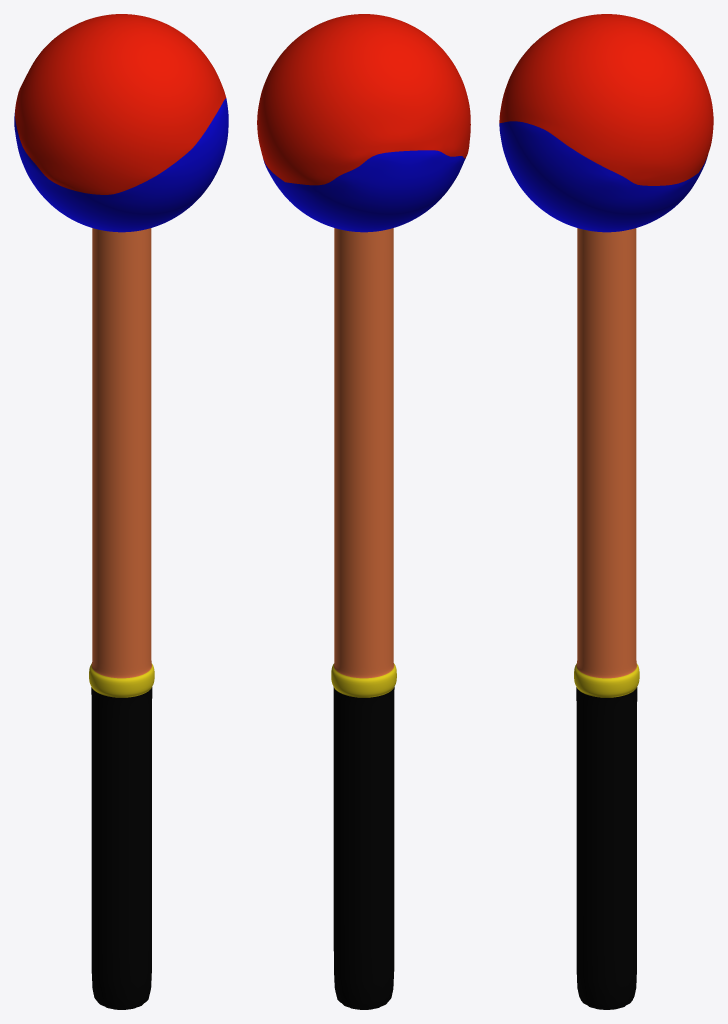
The model's file is Korean Drum Stick 1.fbx.
3 views of the same model, side by side, from view 1: azimuth 30°, elevation 25°; view 2: azimuth 150°, elevation 25°; view 3: azimuth 270°, elevation 25° (orthographic).
Visible parts, largest first — view 1: Sphere; view 2: Sphere; view 3: Sphere.
Boxes of the visible parts, bbox=[...] form: Sphere: bbox=[14, 14, 228, 1009]; Sphere: bbox=[257, 14, 470, 1009]; Sphere: bbox=[499, 14, 713, 1009].
Size of the model in its own units: 58.58 by 294 by 58.26.
